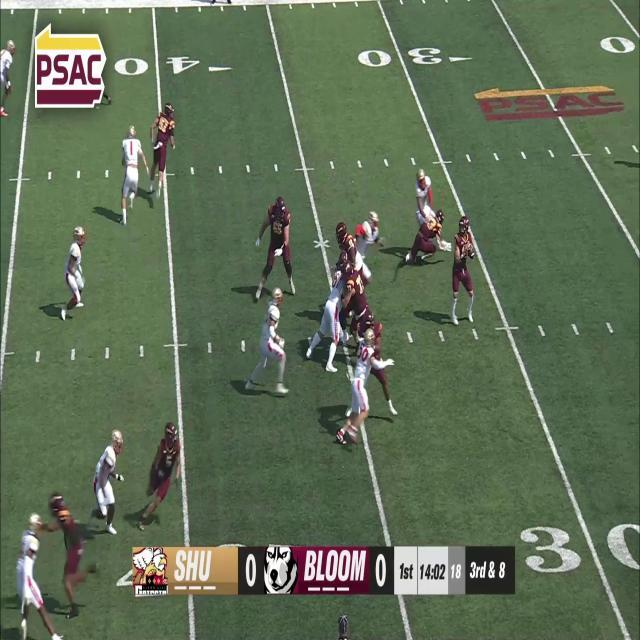football: (466, 242, 476, 258)
